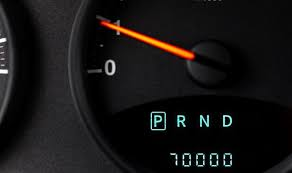Digital_Meter: (164, 150, 241, 169)
